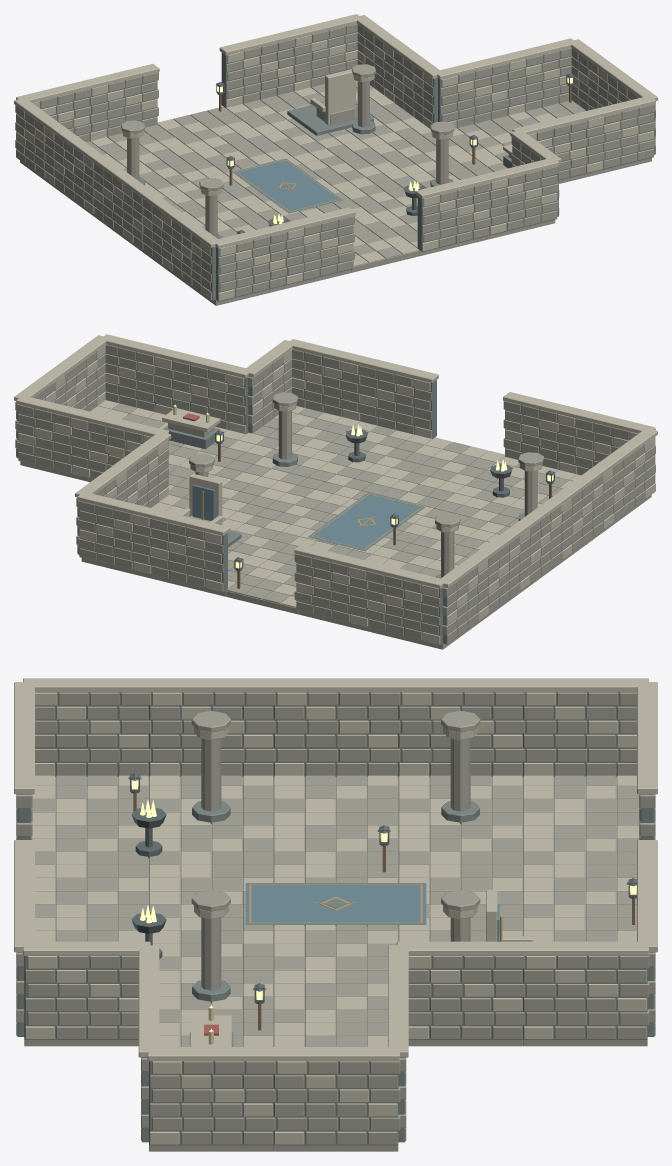
Rendered from tv_45_01_boss_hall.glb.
The picture shows the model from 3 angles, top to bottom: view 1: azimuth 30°, elevation 25°; view 2: azimuth 150°, elevation 25°; view 3: azimuth 270°, elevation 25°; orthographic projection. The views are drawn at different scales.
Visible parts, largest first — view 1: wall_0038, wall_0039, wall_0030, wall_0041, wall_0036, wall_0048, wall_0046, wall_0037, wall_0050, wall_0044, processional_rug_0056, wall_0029 (+37 smaller); view 2: wall_0039, wall_0038, wall_0034, wall_0037, wall_0044, wall_0050, wall_0036, wall_0045, wall_0048, wall_0041, processional_rug_0056, wall_0035 (+41 smaller); view 3: wall_0047, wall_0049, wall_0043, wall_0032, wall_0042, wall_0040, wall_0029, wall_0035, wall_0031, wall_0033, processional_rug_0056, floor_stone_0008 (+48 smaller).
Part boxes in pixels (x1,y1,x2,y2): wall_0038: [415, 174, 490, 251]; wall_0039: [219, 30, 295, 107]; wall_0030: [215, 224, 287, 301]; wall_0041: [484, 157, 559, 235]; wall_0036: [281, 207, 355, 284]; wall_0048: [581, 97, 655, 173]; wall_0046: [435, 55, 509, 128]; wall_0037: [84, 64, 159, 140]; wall_0050: [503, 38, 576, 115]; wall_0044: [289, 14, 362, 91]; processional_rug_0056: [232, 158, 342, 213]; wall_0029: [170, 212, 220, 300]; wall_0039: [149, 509, 230, 592]; wall_0038: [358, 356, 438, 439]; wall_0034: [366, 562, 446, 645]; wall_0037: [294, 544, 372, 627]; wall_0044: [77, 493, 156, 574]; wall_0050: [16, 396, 94, 478]; wall_0036: [503, 392, 581, 474]; wall_0045: [172, 352, 250, 434]; wall_0048: [101, 334, 178, 414]; wall_0041: [287, 339, 364, 421]; processional_rug_0056: [307, 493, 425, 551]; wall_0035: [438, 550, 490, 644]; wall_0047: [147, 1047, 275, 1145]; wall_0049: [273, 1047, 400, 1145]; wall_0043: [522, 941, 649, 1039]; wall_0032: [273, 678, 400, 776]; wall_0042: [396, 941, 524, 1039]; wall_0040: [23, 941, 150, 1039]; wall_0029: [23, 678, 150, 776]; wall_0035: [522, 678, 648, 776]; wall_0031: [148, 678, 275, 776]; wall_0033: [397, 678, 524, 776]; processional_rug_0056: [245, 883, 426, 925]; floor_stone_0008: [398, 825, 522, 879].
Size of the model in its own units: 28.67 by 3.77 by 20.67.
